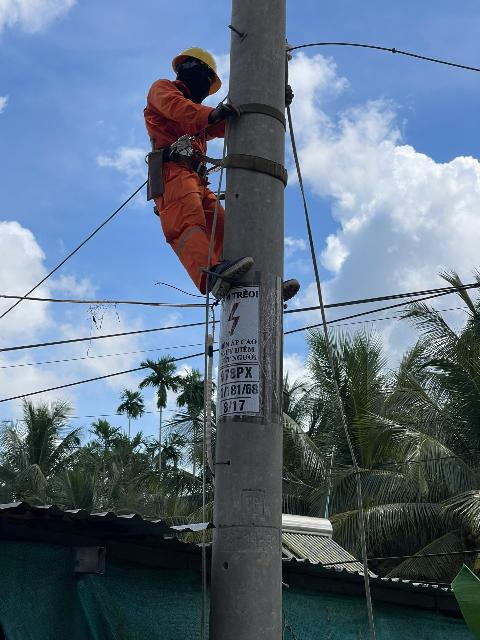gloves: (209, 97, 251, 126)
harness: (154, 142, 232, 178)
helmet: (163, 43, 233, 90)
shoes: (197, 258, 262, 293)
